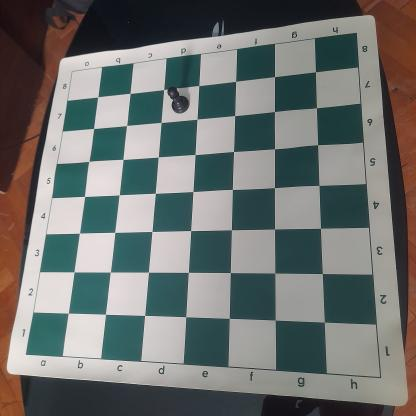black-pawn: (166, 86, 192, 114)
